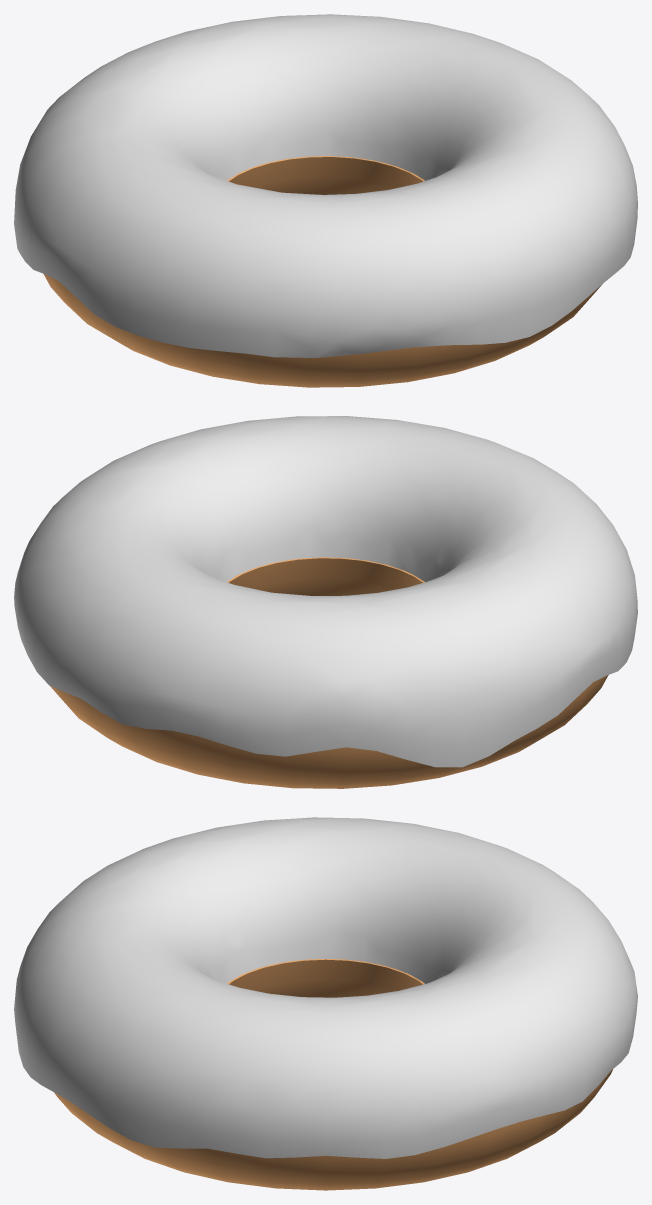
The model's file is Donuts.dae.
The picture shows the model from 3 angles, top to bottom: view 1: azimuth 30°, elevation 25°; view 2: azimuth 150°, elevation 25°; view 3: azimuth 270°, elevation 25°; orthographic projection.
Parts seen in each view (by area): view 1: donut; view 2: donut; view 3: donut.
Boxes of the visible parts, x1,y1,x2,y2 form: donut: (14,14,637,387); donut: (14,416,637,788); donut: (14,817,637,1190).
Size of the model in its own units: 1.01 by 1.01 by 0.3168.
